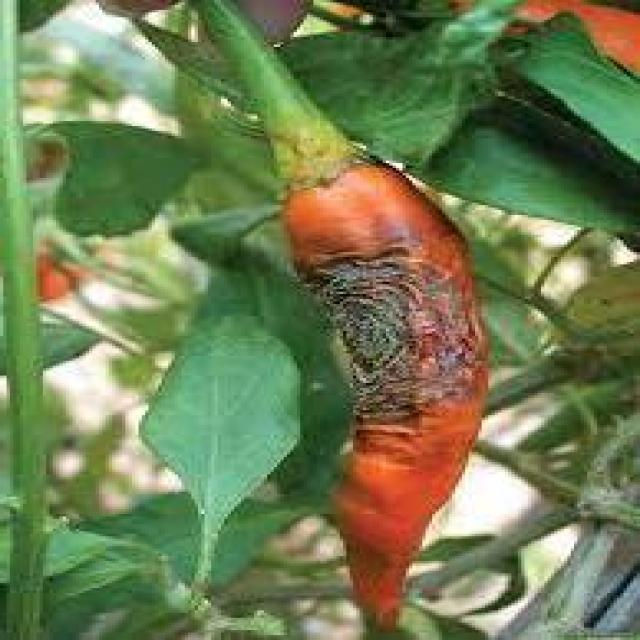Chili_anthracnose: (278, 233, 507, 443)
